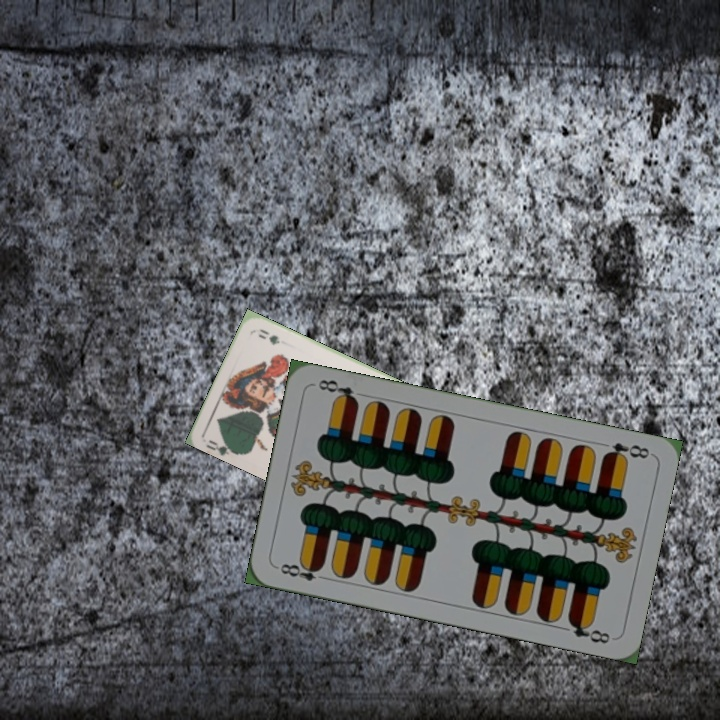E8: (276, 558, 331, 584), (599, 438, 652, 464)
GO: (203, 434, 241, 457)
